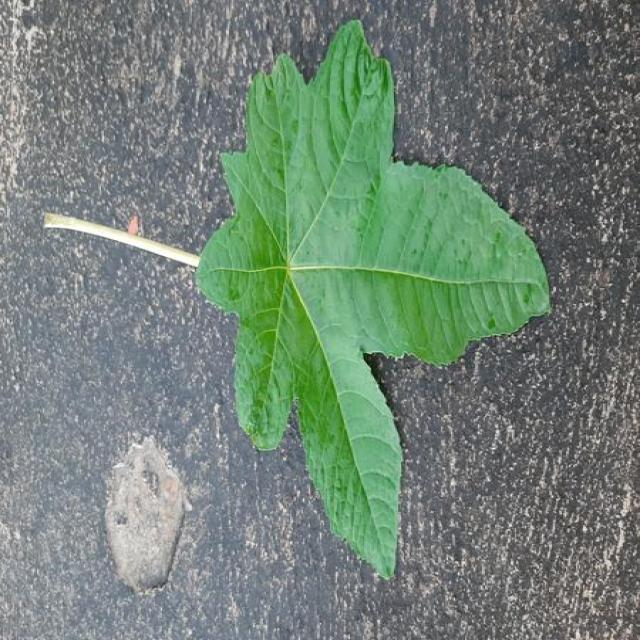castor: (198, 21, 550, 577)
